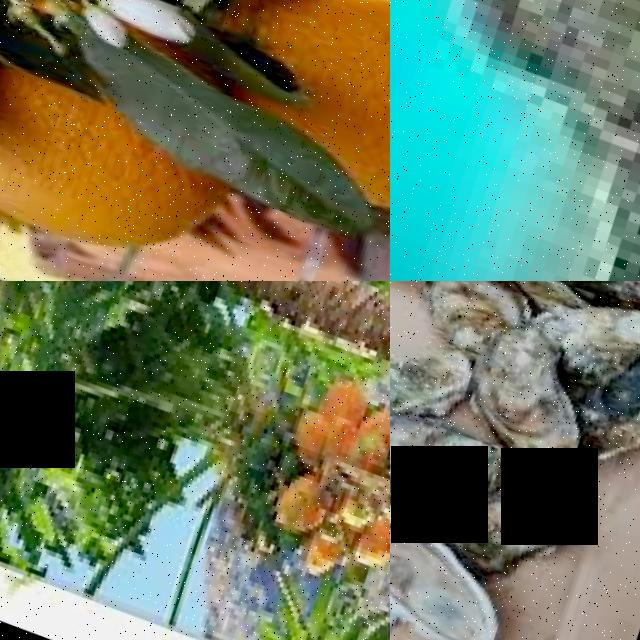orange: (0, 24, 239, 281), (205, 0, 390, 220)
oysters: (436, 319, 604, 485), (405, 471, 584, 605), (390, 395, 500, 530), (390, 517, 506, 640)
